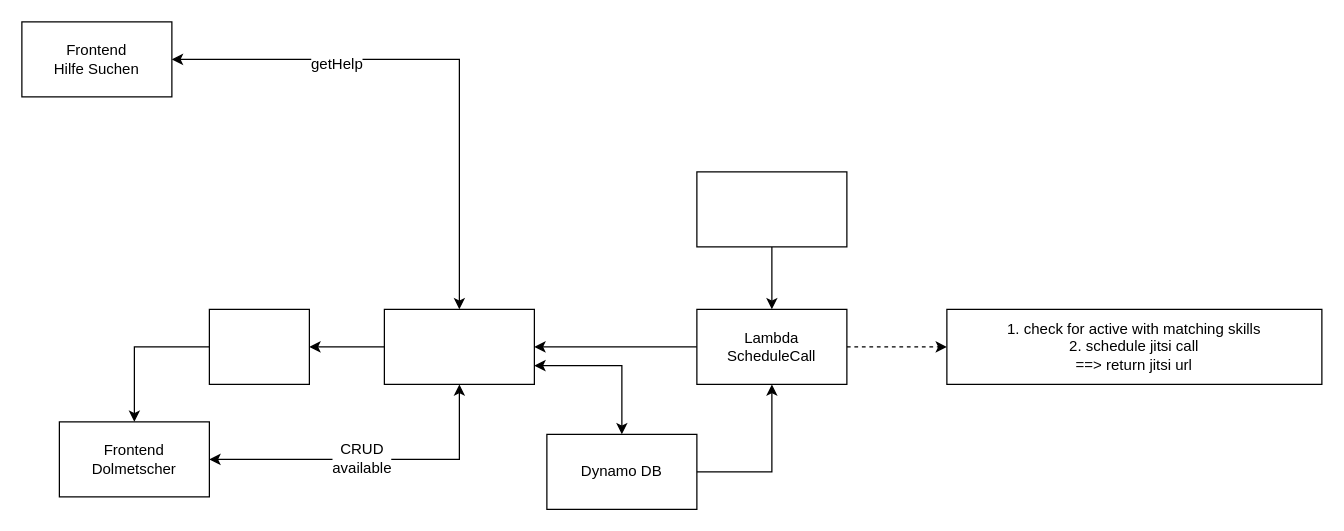
This 1344x531 diagram has some shape labels left out. Each missing label, with the centre of its shape:
"AppSync Amplify" goes at (458,346).
"jit.si" goes at (771,209).
"Lambda Email" goes at (258,346).
